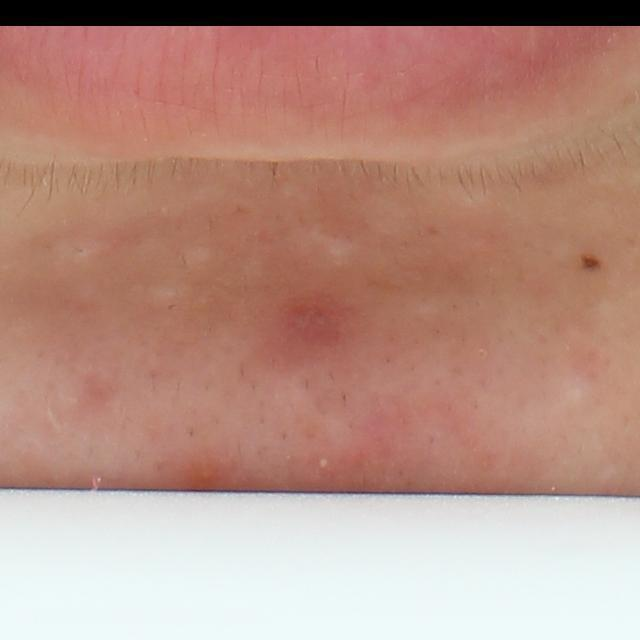hypertrophic_scar: (38, 224, 110, 265), (304, 224, 359, 268), (132, 277, 195, 304), (167, 241, 219, 273)
nevus: (582, 251, 605, 272)
pustule: (313, 456, 331, 473)
